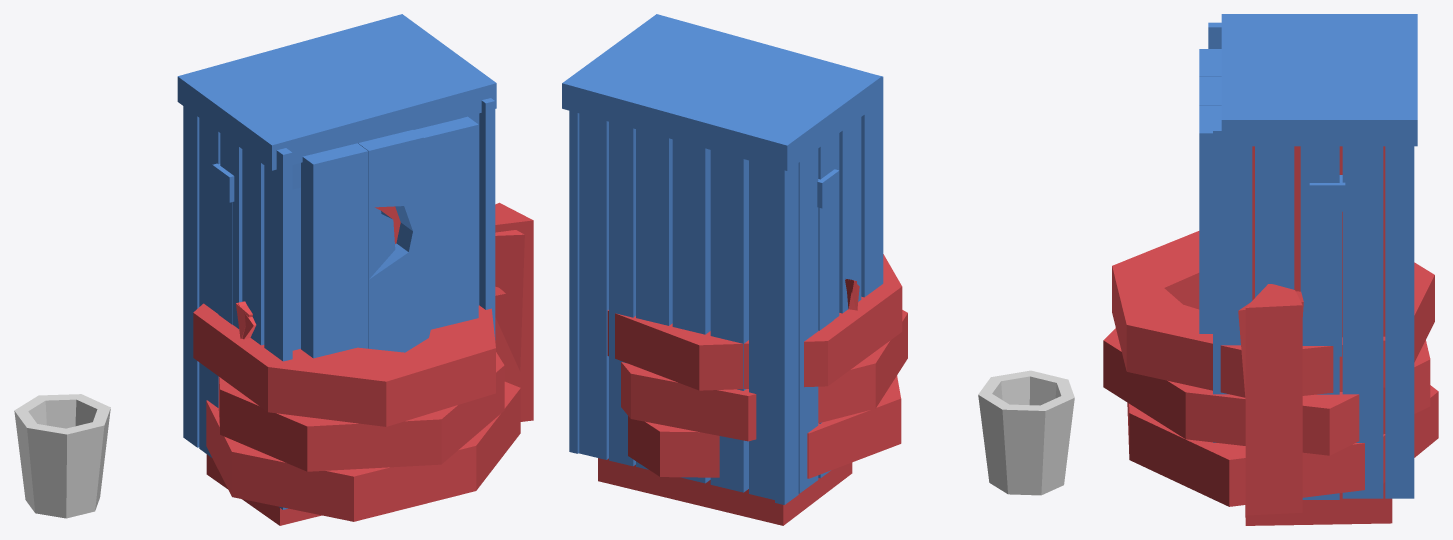
File: Outdoor Environment - Small Buildings.fbx
3 renders of one model, left to right at view 1: azimuth 30°, elevation 25°; view 2: azimuth 150°, elevation 25°; view 3: azimuth 270°, elevation 25°, orthographic. The views are drawn at different scales.
Parts seen in each view (by area): view 1: Outhouse, Well, Bucket, Fence1, Fence2; view 2: Outhouse, Well, Bucket; view 3: Outhouse, Well, Fence1, Fence2.
Part boxes in pixels (x1=…): Outhouse: x1=177, y1=14, x2=496, y2=525; Well: x1=193, y1=163, x2=520, y2=521; Bucket: x1=14, y1=394, x2=110, y2=518; Fence1: x1=236, y1=202, x2=533, y2=421; Fence2: x1=238, y1=230, x2=524, y2=371; Outhouse: x1=562, y1=14, x2=883, y2=525; Well: x1=607, y1=169, x2=907, y2=478; Bucket: x1=978, y1=370, x2=1074, y2=495; Outhouse: x1=1199, y1=14, x2=1417, y2=525; Well: x1=1103, y1=175, x2=1438, y2=506; Fence1: x1=1245, y1=284, x2=1302, y2=515; Fence2: x1=1238, y1=291, x2=1303, y2=399.
Size of the model in its own units: 377 by 293 by 214.
